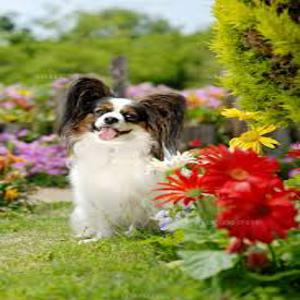yell: (56, 77, 186, 237)
